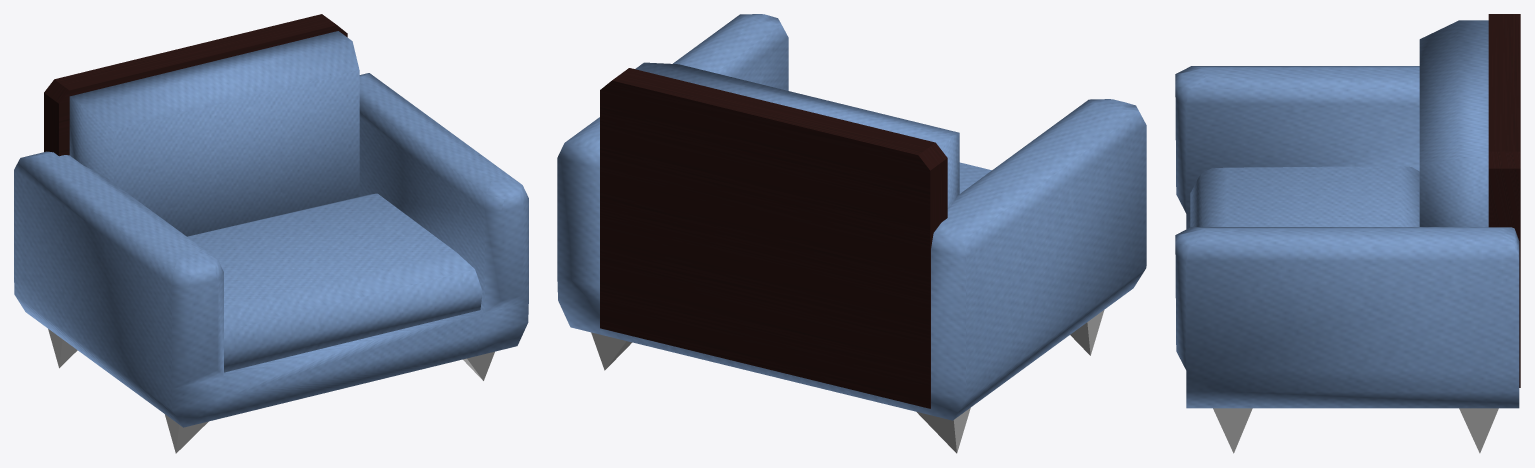
The model's file is Armchair_G_2.FBX.
The picture shows the model from 3 angles, left to right: view 1: azimuth 30°, elevation 25°; view 2: azimuth 150°, elevation 25°; view 3: azimuth 270°, elevation 25°; orthographic projection. The views are drawn at different scales.
Visible parts, largest first — view 1: Flatback_Chair; view 2: Flatback_Chair; view 3: Flatback_Chair.
Boxes of the visible parts, x1,y1,x2,y2 form: Flatback_Chair: (14, 14, 528, 453); Flatback_Chair: (557, 14, 1146, 453); Flatback_Chair: (1175, 14, 1520, 453).
Size of the model in its own units: 214 by 157 by 170.
